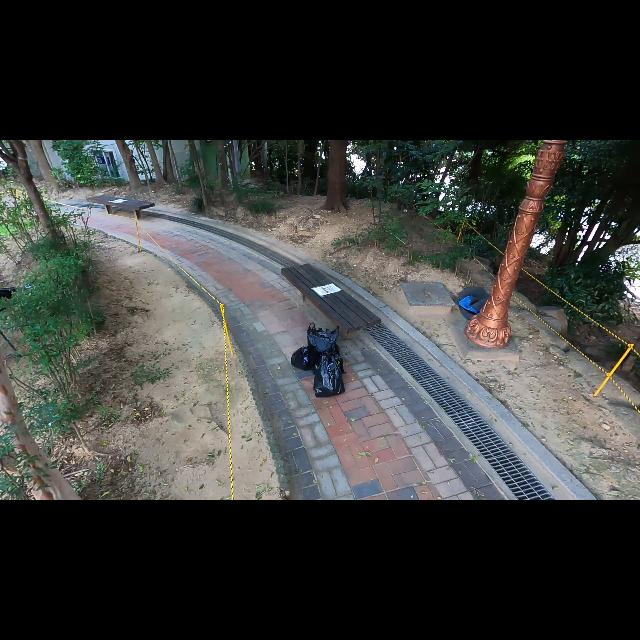trash: (306, 321, 346, 372), (313, 354, 345, 398), (453, 284, 491, 320), (290, 344, 322, 370), (320, 350, 346, 374)
